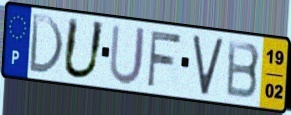B: (225, 38, 262, 101)
D: (27, 12, 66, 77)
F: (145, 28, 183, 89)
U: (60, 15, 107, 82), (108, 22, 148, 87)
V: (191, 35, 226, 98)
